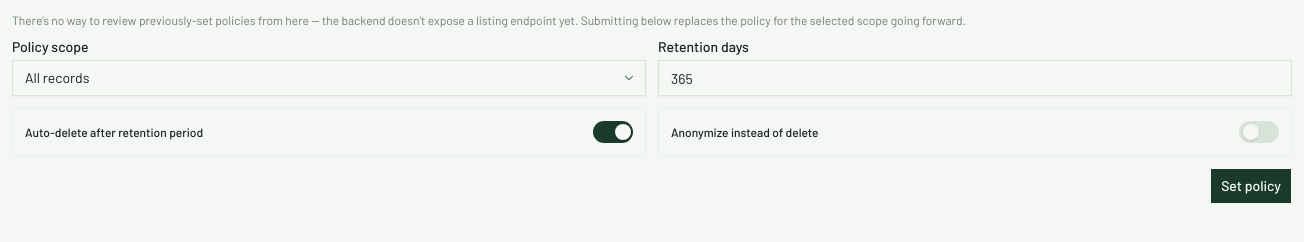
RetentionPolicyForm › rejects a retention period outside 7-2555 days
The width and height of the screenshot is (1304, 242).
Replace the text in the number field labelled "Retention days" with "3": (975, 78) [658,60,1292,96]
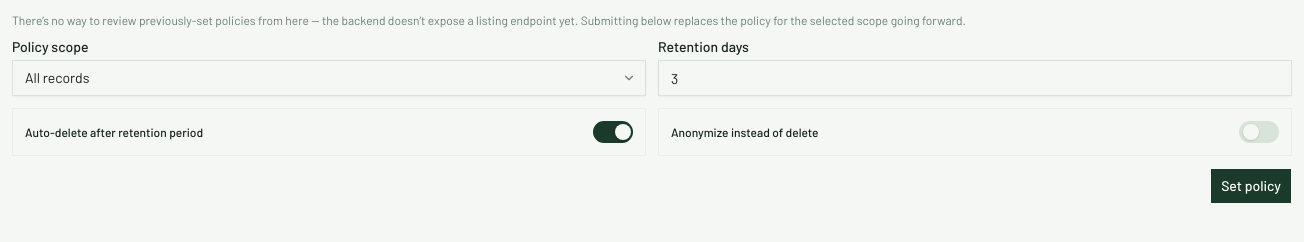
Click the button "Set policy": (1251, 186) [1210,168,1292,204]
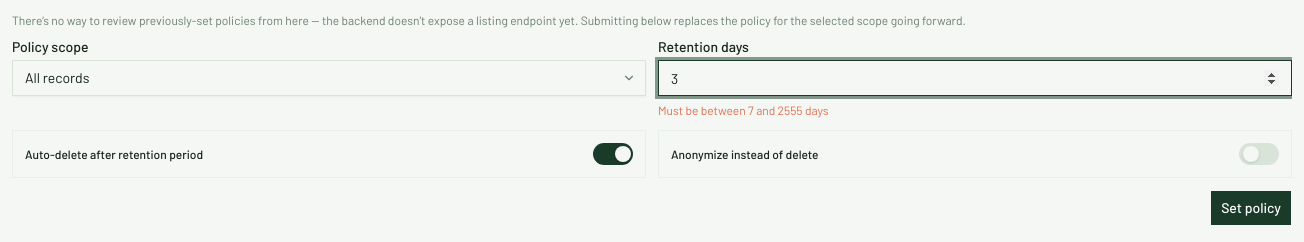
Check: the text "Must be between 7 and 2555 days" is shown, box [658,103,828,117]
